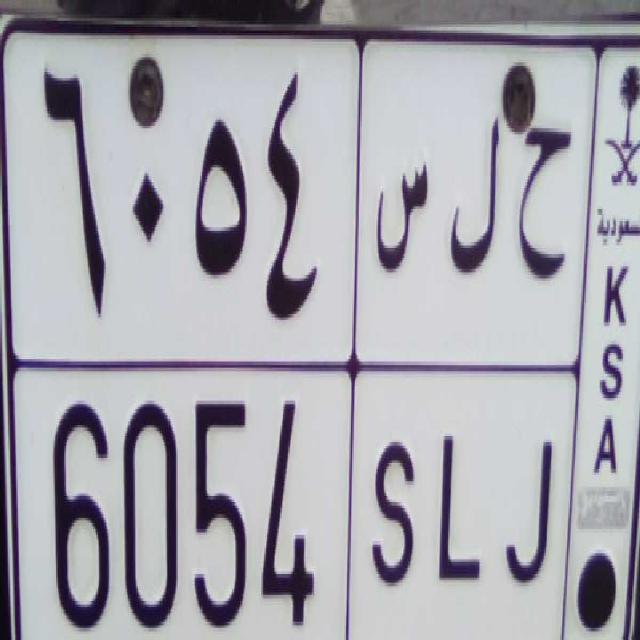license_plate: (5, 360, 575, 640)
